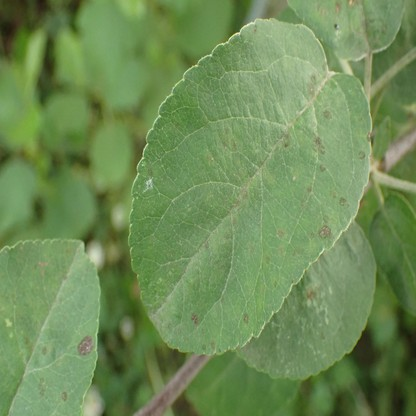scab: (148, 26, 370, 350), (245, 228, 364, 368), (1, 247, 92, 404), (316, 0, 387, 38)
